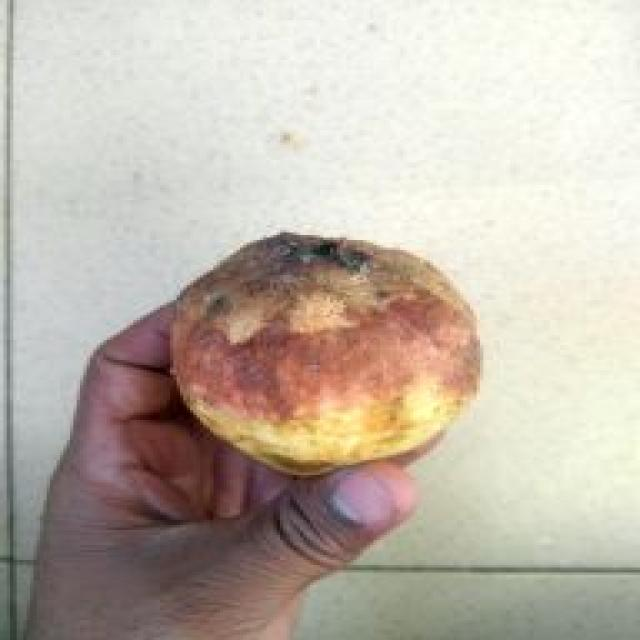Bad_Guava: (172, 232, 482, 474)
